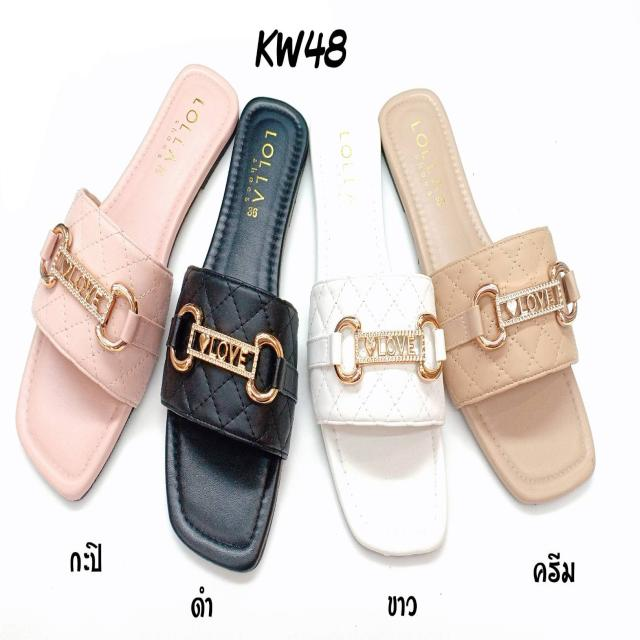black: (169, 86, 300, 568)
cream: (381, 96, 600, 504)
kapi: (18, 61, 237, 500)
white: (304, 91, 449, 560)
